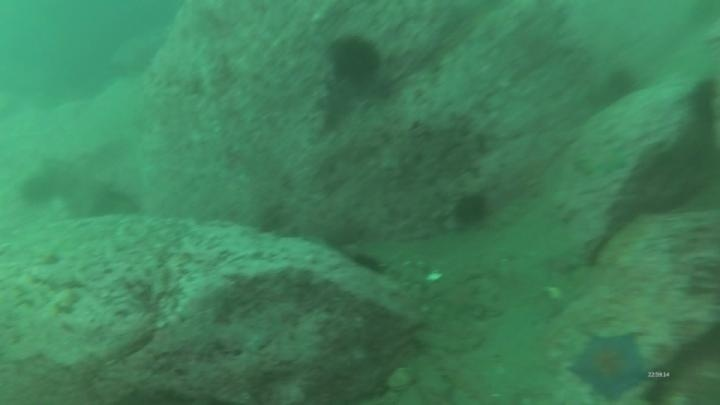echinus: (327, 33, 383, 86), (88, 184, 143, 221), (451, 190, 491, 228), (18, 172, 59, 208), (602, 65, 640, 102), (349, 250, 389, 278)
starfish: (566, 329, 652, 403), (435, 280, 483, 319), (581, 144, 632, 179)
